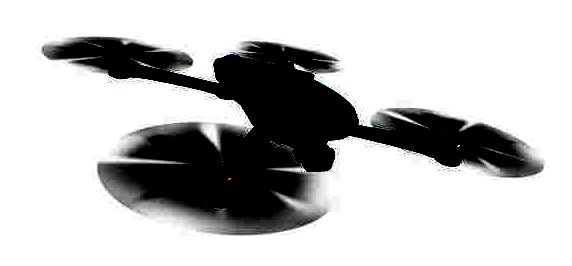Drone: (28, 20, 547, 238)
